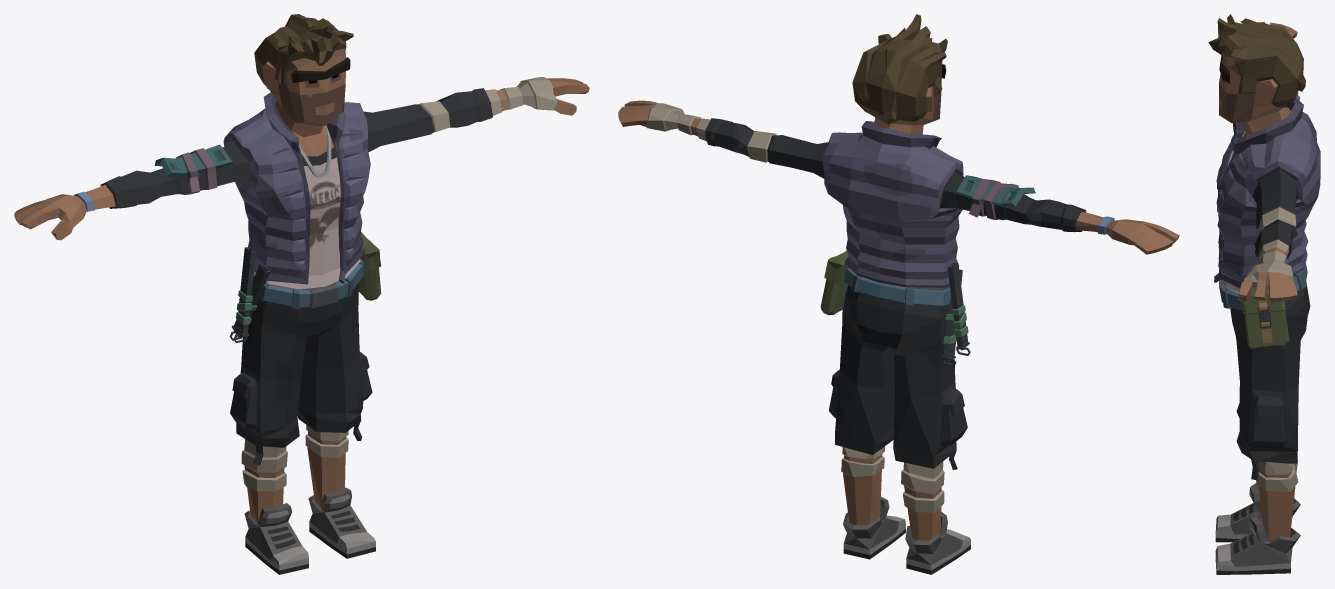
Rendered from Running.glb.
3 views of the same model, side by side, from view 1: azimuth 30°, elevation 25°; view 2: azimuth 150°, elevation 25°; view 3: azimuth 270°, elevation 25° (orthographic). The views are drawn at different scales.
Visible parts, largest first — view 1: SM_Chr_Cool_Male_01, SM_Chr_Attach_Cool_Male_Hair_01, SM_Chr_Attach_Mags_03, SM_Chr_Attach_Pouch_02; view 2: SM_Chr_Cool_Male_01, SM_Chr_Attach_Cool_Male_Hair_01, SM_Chr_Attach_Mags_03, SM_Chr_Attach_Pouch_02; view 3: SM_Chr_Cool_Male_01, SM_Chr_Attach_Cool_Male_Hair_01, SM_Chr_Attach_Pouch_02.
Boxes of the visible parts, x1=… form: SM_Chr_Cool_Male_01: x1=14, y1=48, x2=589, y2=574; SM_Chr_Attach_Cool_Male_Hair_01: x1=254, y1=14, x2=353, y2=90; SM_Chr_Attach_Mags_03: x1=229, y1=247, x2=270, y2=343; SM_Chr_Attach_Pouch_02: x1=358, y1=232, x2=381, y2=300; SM_Chr_Cool_Male_01: x1=618, y1=64, x2=1179, y2=574; SM_Chr_Attach_Cool_Male_Hair_01: x1=852, y1=14, x2=947, y2=124; SM_Chr_Attach_Mags_03: x1=942, y1=262, x2=970, y2=366; SM_Chr_Attach_Pouch_02: x1=820, y1=251, x2=848, y2=315; SM_Chr_Cool_Male_01: x1=1214, y1=22, x2=1320, y2=574; SM_Chr_Attach_Cool_Male_Hair_01: x1=1208, y1=14, x2=1305, y2=107; SM_Chr_Attach_Pouch_02: x1=1241, y1=287, x2=1289, y2=348.
Size of the model in its own units: 205 by 185 by 35.27.
4 materials, 4 textured.
